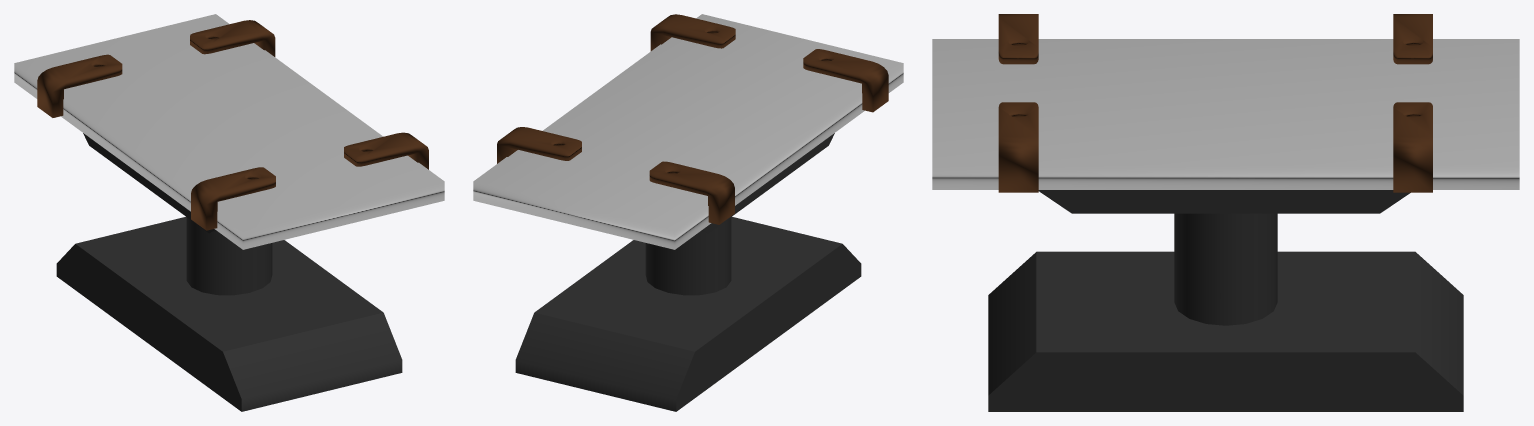
The model's file is lab_table.fbx.
3 renders of one model, left to right at view 1: azimuth 30°, elevation 25°; view 2: azimuth 150°, elevation 25°; view 3: azimuth 270°, elevation 25°, orthographic. The views are drawn at different scales.
Parts seen in each view (by area): view 1: Cube, Cube.002, Cylinder, Cube.005, Cube.006, Cube.003, Cube.004, Cube.001; view 2: Cube, Cube.002, Cylinder, Cube.005, Cube.006, Cube.004, Cube.003, Cube.001; view 3: Cube, Cube.002, Cylinder, Cube.001, Cube.004, Cube.003, Cube.006, Cube.005.
Part boxes in pixels (left/top/right/bottom): Cube: left=14, top=14, right=444, bottom=249; Cube.002: left=56, top=217, right=402, bottom=411; Cylinder: left=186, top=217, right=272, bottom=295; Cube.005: left=37, top=54, right=122, bottom=117; Cube.006: left=191, top=167, right=275, bottom=230; Cube.003: left=190, top=20, right=275, bottom=56; Cube.004: left=344, top=132, right=428, bottom=169; Cube.001: left=83, top=133, right=217, bottom=233; Cube: left=473, top=14, right=903, bottom=249; Cube.002: left=515, top=217, right=861, bottom=411; Cylinder: left=645, top=217, right=731, bottom=295; Cube.005: left=649, top=161, right=734, bottom=224; Cube.006: left=803, top=49, right=888, bottom=112; Cube.004: left=650, top=14, right=735, bottom=51; Cube.003: left=497, top=127, right=581, bottom=163; Cube.001: left=700, top=133, right=834, bottom=233; Cube: left=932, top=39, right=1519, bottom=189; Cube.002: left=988, top=251, right=1463, bottom=411; Cylinder: left=1174, top=213, right=1277, bottom=325; Cube.001: left=1038, top=190, right=1410, bottom=213; Cube.004: left=998, top=102, right=1038, bottom=192; Cube.003: left=1393, top=102, right=1432, bottom=192; Cube.006: left=998, top=14, right=1038, bottom=64; Cube.005: left=1393, top=14, right=1432, bottom=64.
Bounding box in the file's own units: 72.29 × 68.77 × 129.
